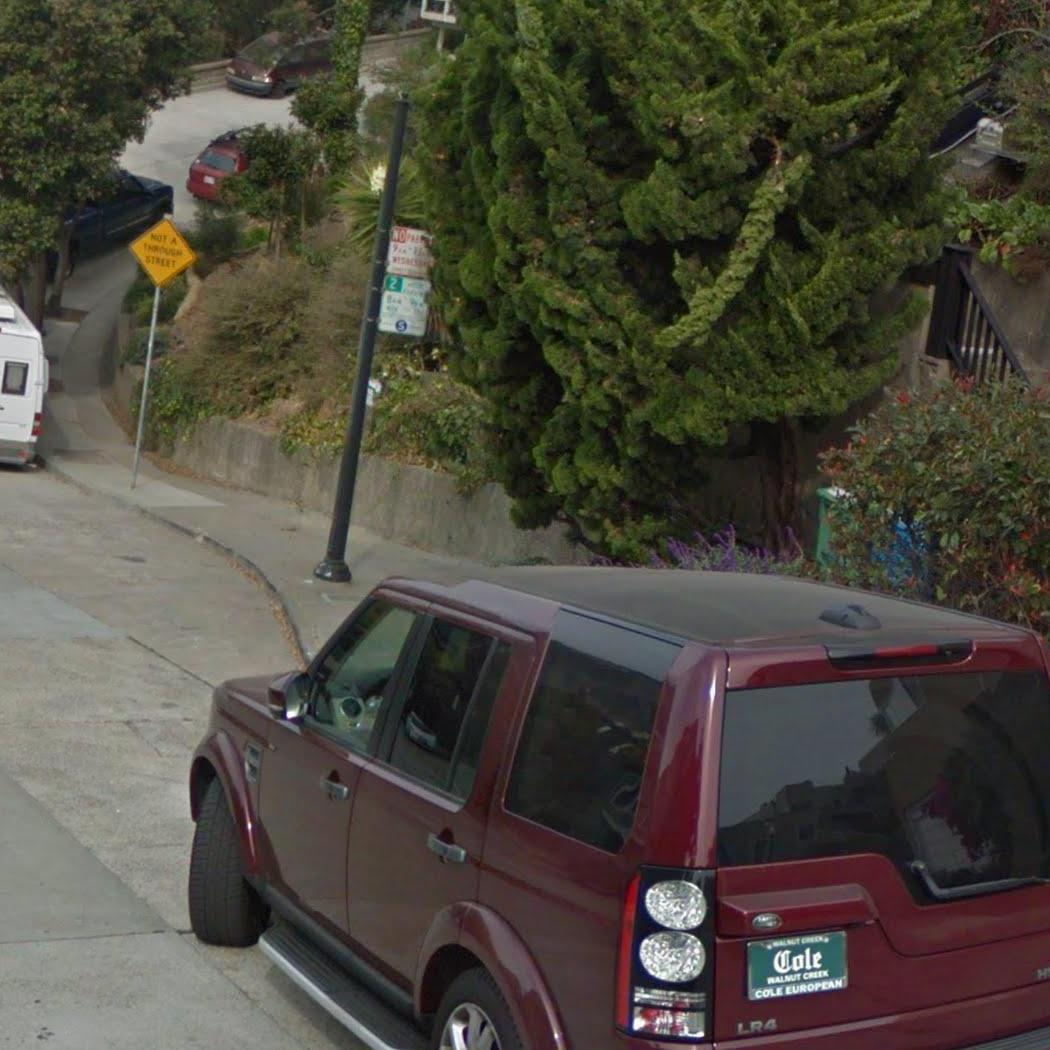2 Hour Parking: (376, 272, 433, 339)
No Parking: (384, 223, 437, 273)
